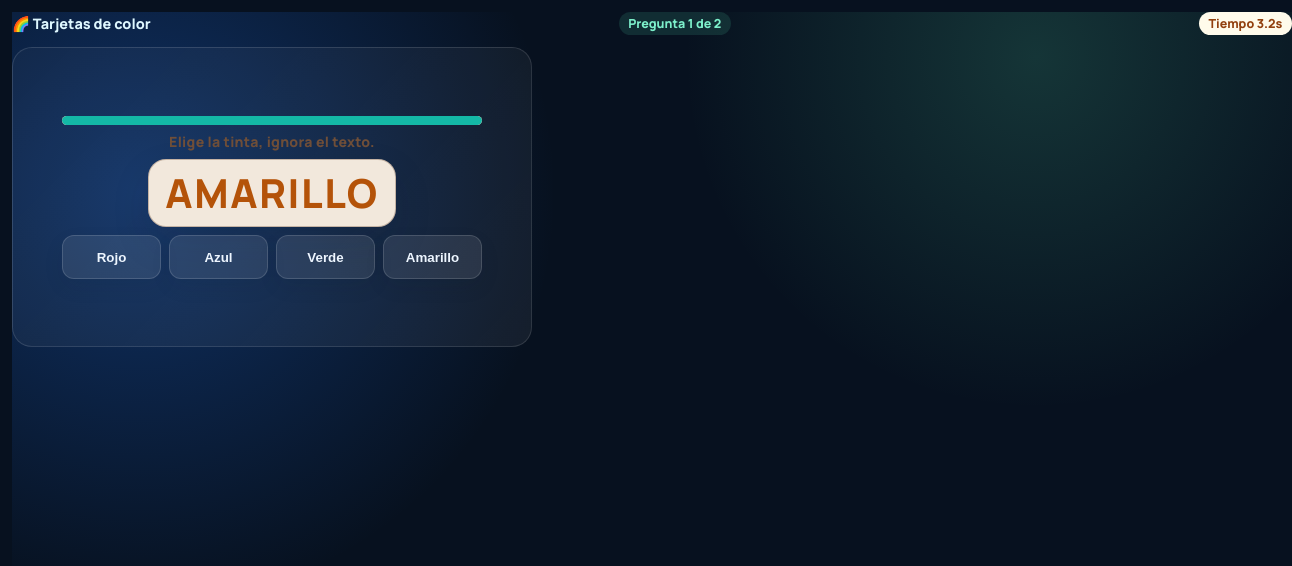
Scenario: ColorInterferenceTask › jitters the ITI within [0.75, 1.25] × itiMs so the rhythm is not telegraphed (CIP-P2-4)
Click the button with aria-label "Elegir tinta": x=112, y=257 62,235 -> 161,279
Wait 126 ms
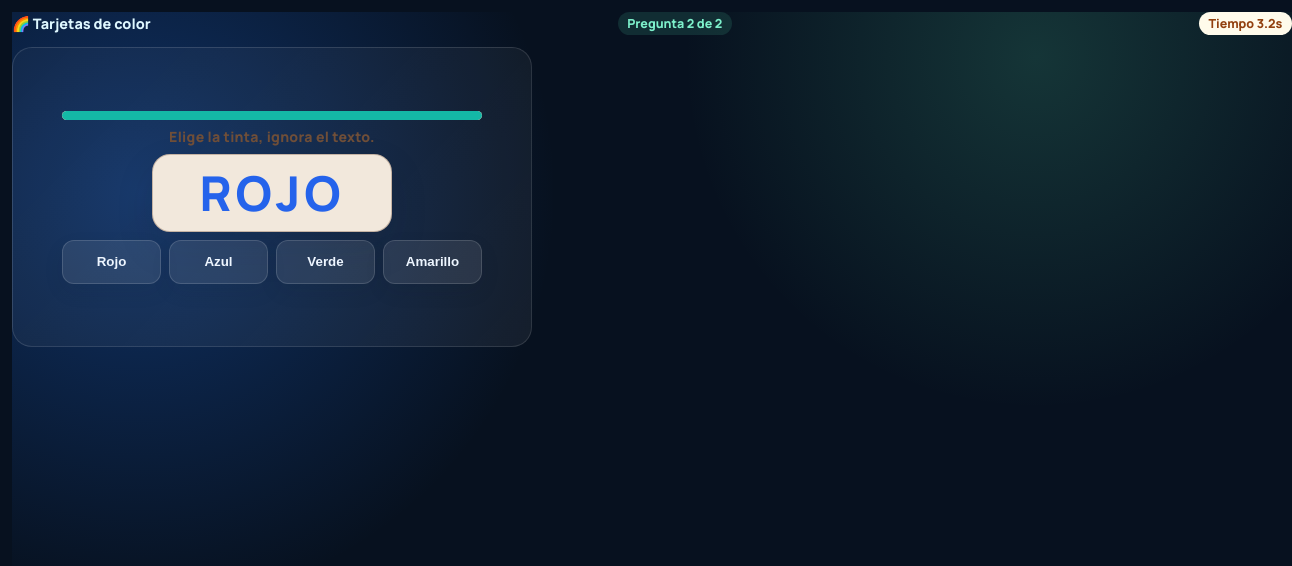
Now the text "Pregunta 2 de 2" is shown, box 618,12 -> 732,35
